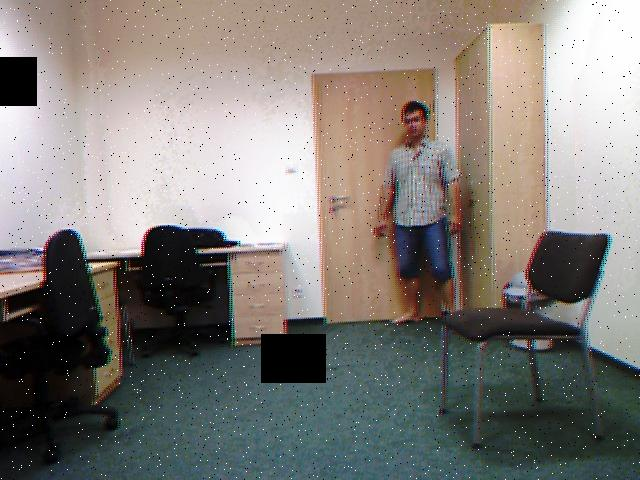standing: (380, 101, 460, 334)
